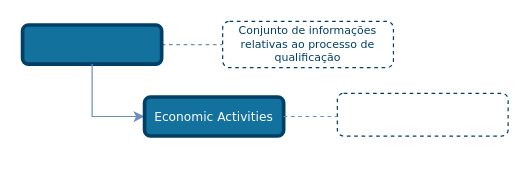
Some shapes in this 529 by 182 pixel diagram are drawn without their labels. The centre of each missing label's shape, as x and y in pixels:
Data: the point at 91,44
Informações relativas aos ramos de atividade de atuação da empresa: the point at 422,114
